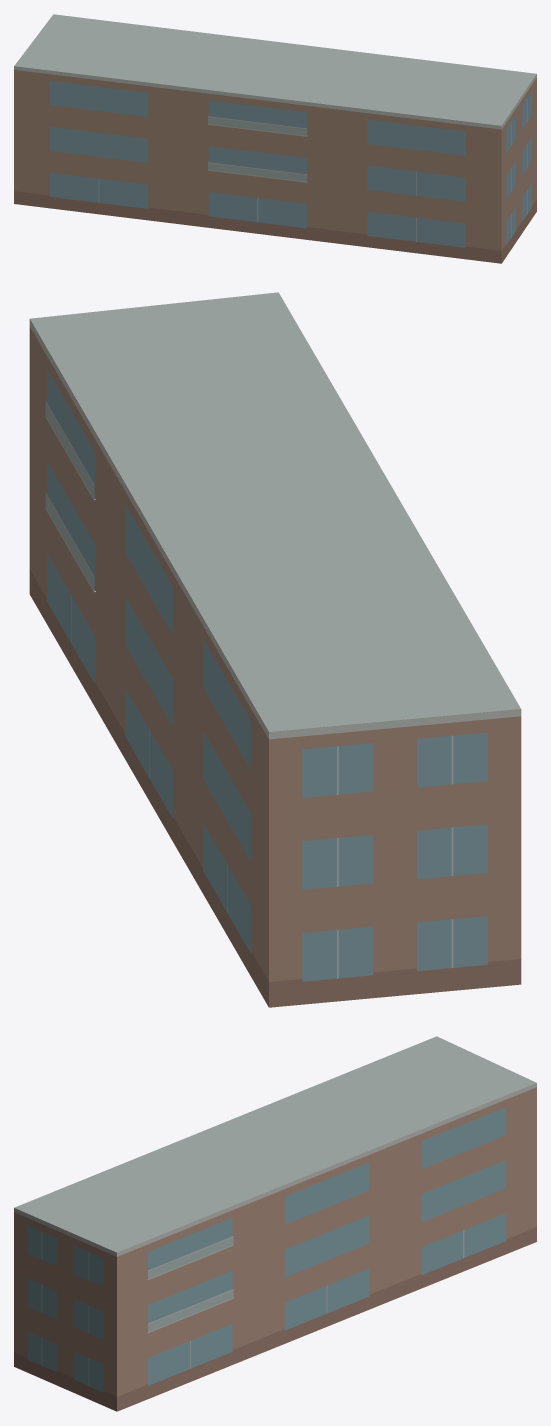
Rendered from survey-upis-32669460.glb.
3 renders of one model, top to bottom at view 1: azimuth 30°, elevation 25°; view 2: azimuth 150°, elevation 25°; view 3: azimuth 270°, elevation 25°, orthographic. The views are drawn at different scales.
Visible parts, largest first — view 1: survey-upis-32669460.tmp; view 2: survey-upis-32669460.tmp; view 3: survey-upis-32669460.tmp.
Part boxes in pixels (x1,y1,x2,y2): survey-upis-32669460.tmp: (14, 14, 536, 263); survey-upis-32669460.tmp: (29, 292, 521, 1007); survey-upis-32669460.tmp: (14, 1036, 536, 1411).
Size of the model in its own units: 26.72 by 9.15 by 27.28.
